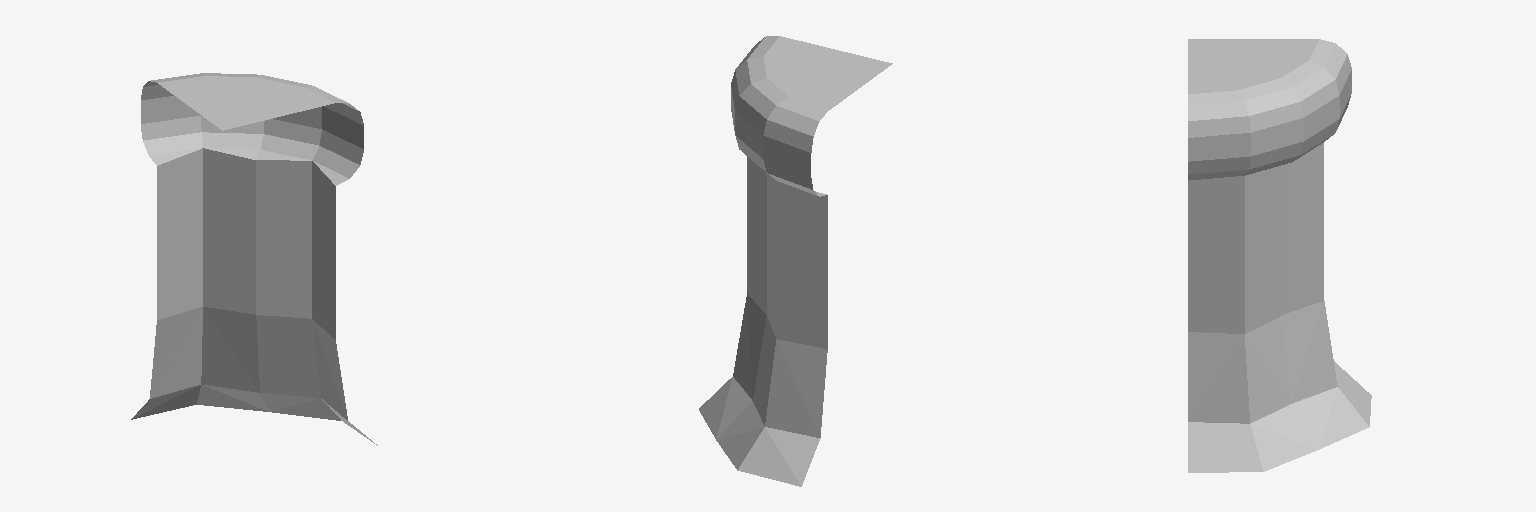
The model's file is Terrain_Cliff_3_Tall_Corner_Outer_1x1.obj.
3 views of the same model, side by side, from view 1: azimuth 30°, elevation 25°; view 2: azimuth 150°, elevation 25°; view 3: azimuth 270°, elevation 25° (orthographic).
Visible parts, largest first — view 1: Rock, Grass; view 2: Rock, Grass; view 3: Rock, Grass.
Boxes of the visible parts, <box> form: Rock: <box>131,148,377,445</box>; Grass: <box>141,73,363,185</box>; Rock: <box>699,156,827,486</box>; Grass: <box>731,36,892,196</box>; Rock: <box>1188,143,1371,472</box>; Grass: <box>1188,39,1351,180</box>.
Bounding box in the file's own units: 1.4 × 3 × 1.4.